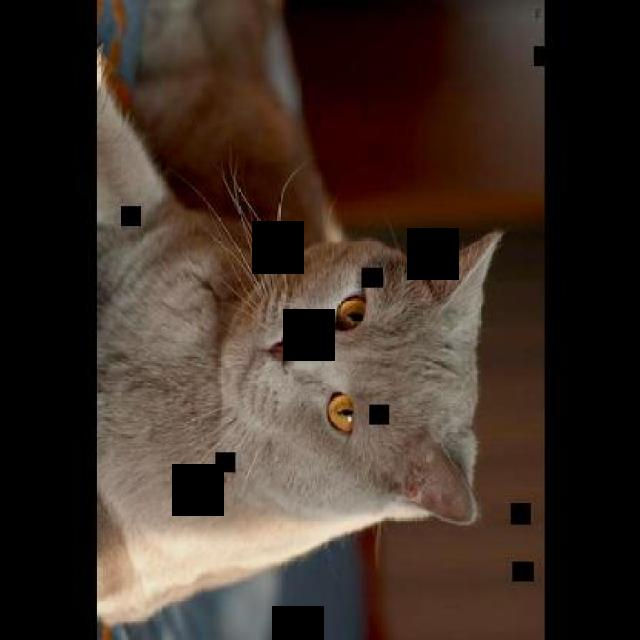unauthorized: (96, 21, 504, 634), (95, 0, 344, 252)
